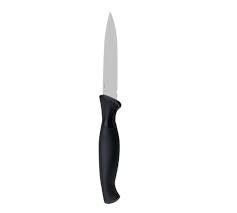Knife: (98, 10, 121, 203)
